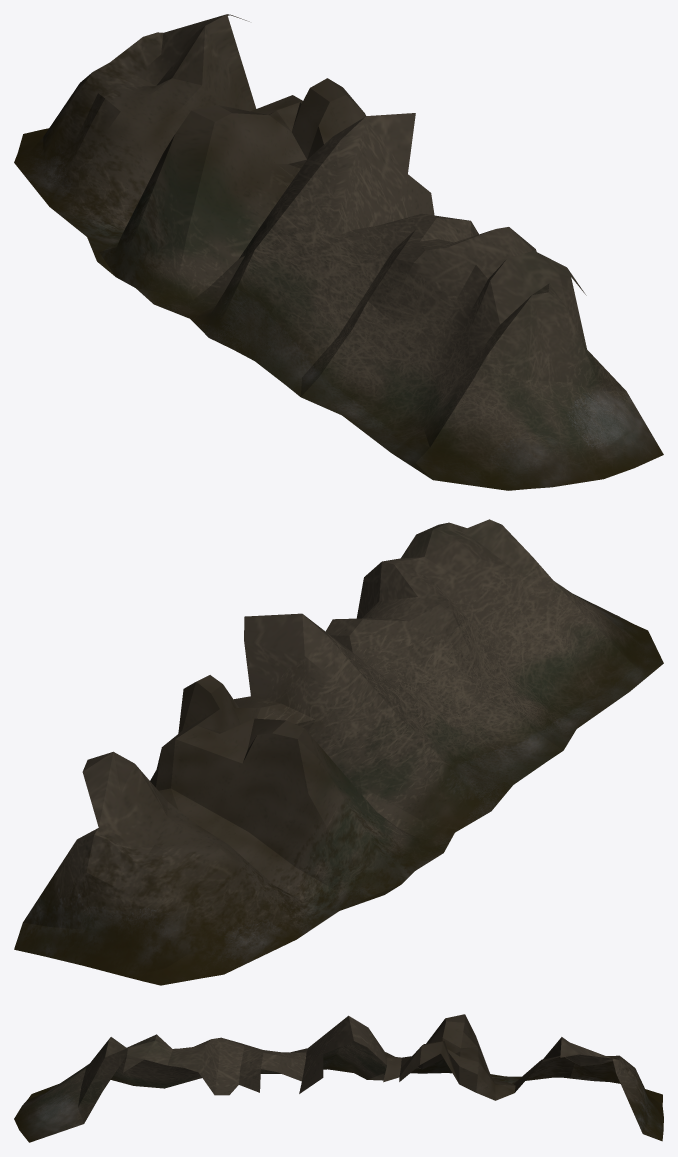
The model's file is cliffBig.glb.
3 renders of one model, top to bottom at view 1: azimuth 30°, elevation 25°; view 2: azimuth 150°, elevation 25°; view 3: azimuth 270°, elevation 25°, orthographic. The views are drawn at different scales.
Visible parts, largest first — view 1: Plane; view 2: Plane; view 3: Plane.
Boxes of the visible parts, bbox=[...] form: Plane: bbox=[14, 14, 663, 490]; Plane: bbox=[14, 519, 663, 985]; Plane: bbox=[14, 1014, 663, 1142].
Bounding box in the file's own units: 34.33 × 24.41 × 128.
1 material, 1 textured.
